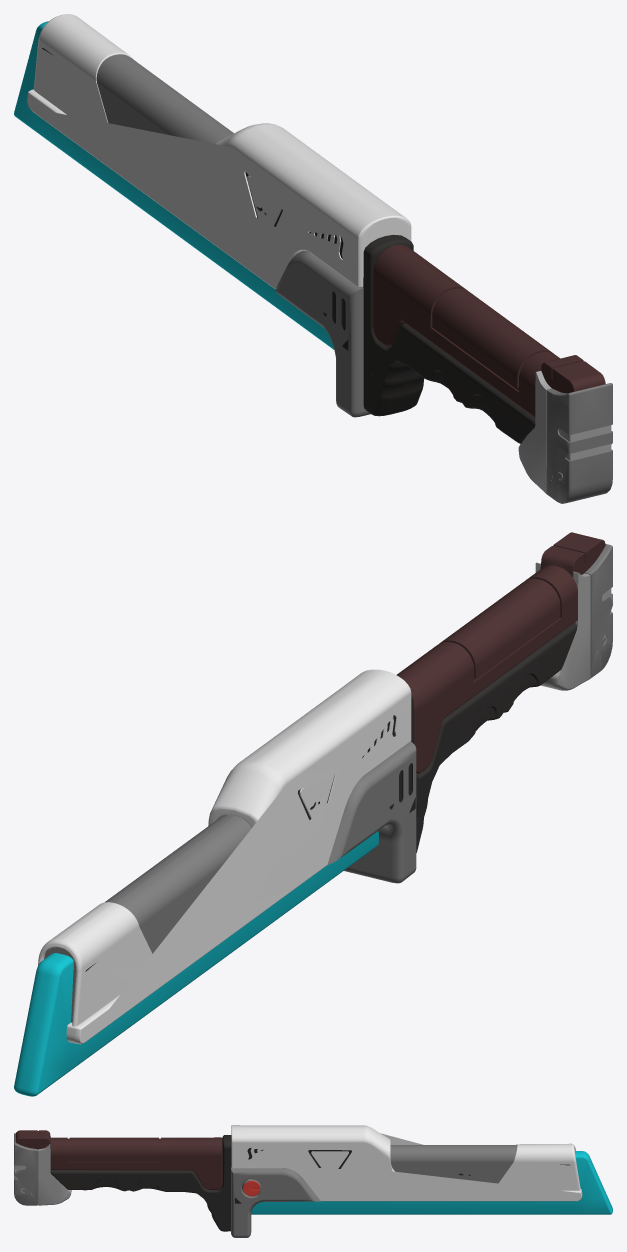
File: lightYearSword.fbx
The picture shows the model from 3 angles, top to bottom: view 1: azimuth 30°, elevation 25°; view 2: azimuth 150°, elevation 25°; view 3: azimuth 270°, elevation 25°; orthographic projection. The views are drawn at different scales.
Parts seen in each view (by area): view 1: MainSwordPart, Handle, FrontBlade, BottomHandle, BackHandle, ButtonHolder, Blade; view 2: MainSwordPart, Handle, FrontBlade, Blade, ButtonHolder, BottomHandle, BackHandle; view 3: MainSwordPart, FrontBlade, Handle, Blade, BottomHandle, ButtonHolder, BackHandle.
Part boxes in pixels (bbox=[...]): MainSwordPart: bbox=[27, 89, 411, 288]; Handle: bbox=[373, 245, 605, 417]; FrontBlade: bbox=[33, 14, 233, 143]; BottomHandle: bbox=[363, 234, 535, 443]; BackHandle: bbox=[518, 371, 612, 503]; ButtonHolder: bbox=[275, 250, 370, 417]; Blade: bbox=[14, 21, 334, 349]; MainSwordPart: bbox=[66, 669, 411, 1044]; Handle: bbox=[396, 532, 605, 773]; FrontBlade: bbox=[38, 815, 251, 1026]; Blade: bbox=[14, 831, 378, 1096]; ButtonHolder: bbox=[327, 741, 416, 883]; BottomHandle: bbox=[411, 622, 576, 852]; BackHandle: bbox=[535, 544, 612, 690]; MainSwordPart: bbox=[231, 1125, 582, 1201]; FrontBlade: bbox=[390, 1143, 580, 1190]; Handle: bbox=[15, 1130, 222, 1189]; Blade: bbox=[251, 1151, 612, 1214]; BottomHandle: bbox=[50, 1135, 231, 1231]; ButtonHolder: bbox=[231, 1167, 320, 1237]; BackHandle: bbox=[14, 1133, 71, 1205].
Size of the model in its own units: 643 by 1705 by 9014.
